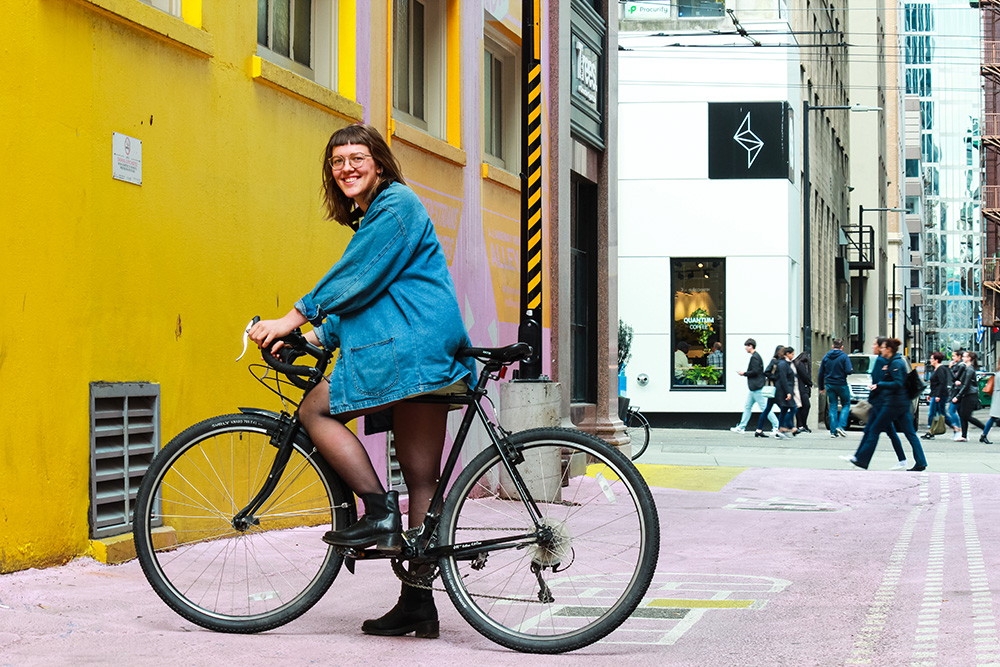commuter: (133, 124, 662, 661)
